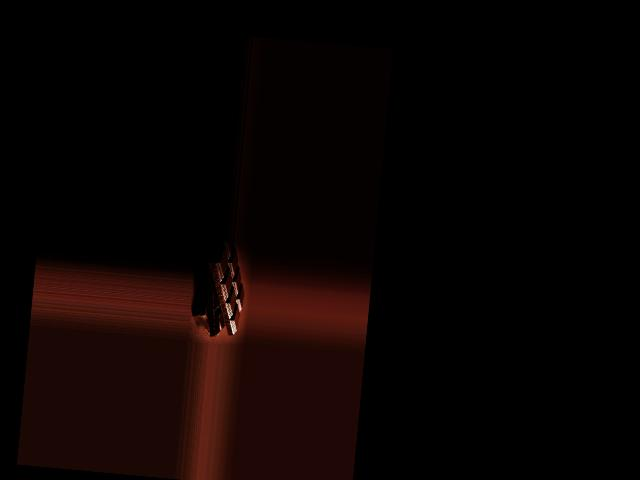chocolate: (196, 241, 248, 338)
